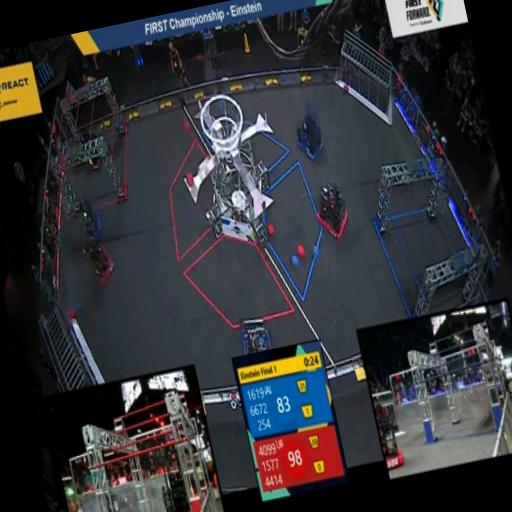robot: (303, 169, 358, 247), (284, 92, 333, 168), (226, 299, 278, 363), (79, 230, 124, 298), (70, 183, 112, 248)
